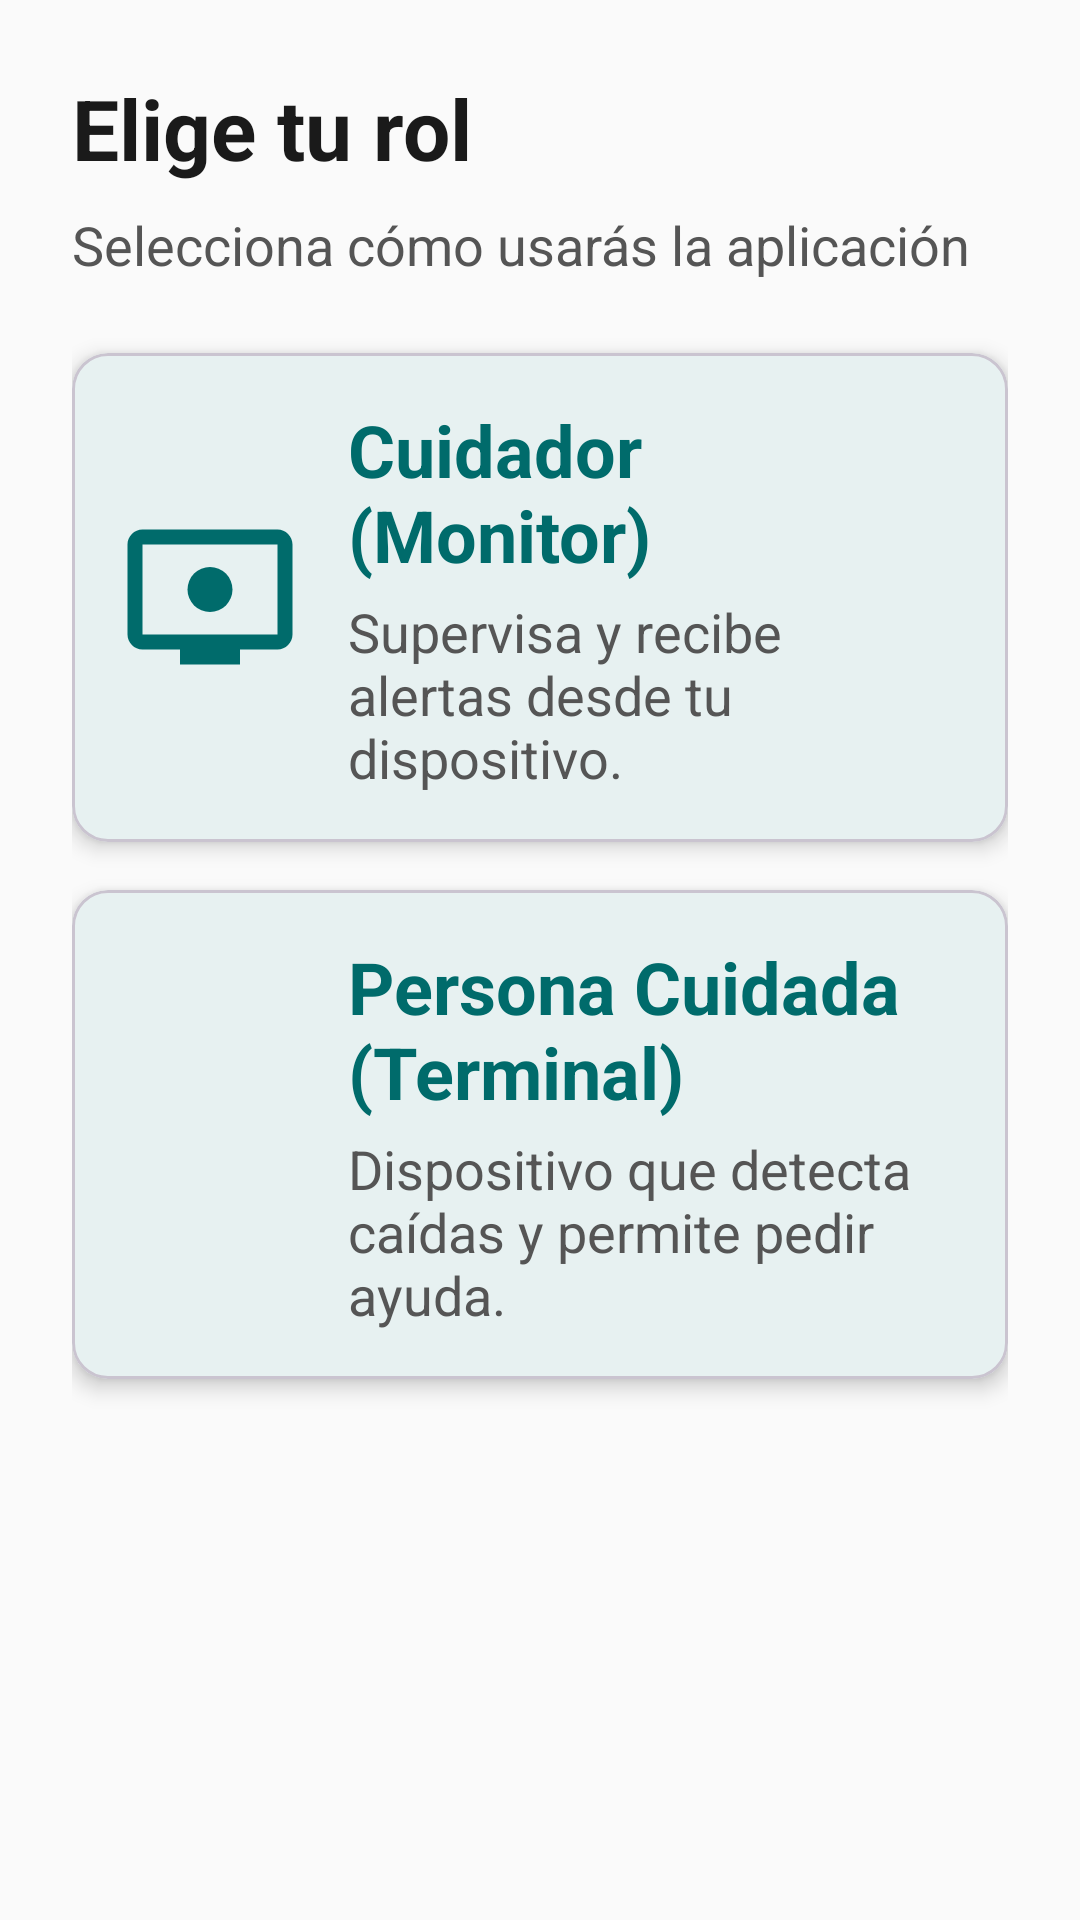

Icon bounding boxes for this 1080px×1920px phone screenshot, format box=[x1, y1, x2, y2]:
monitor video: box=[127, 529, 293, 665]
